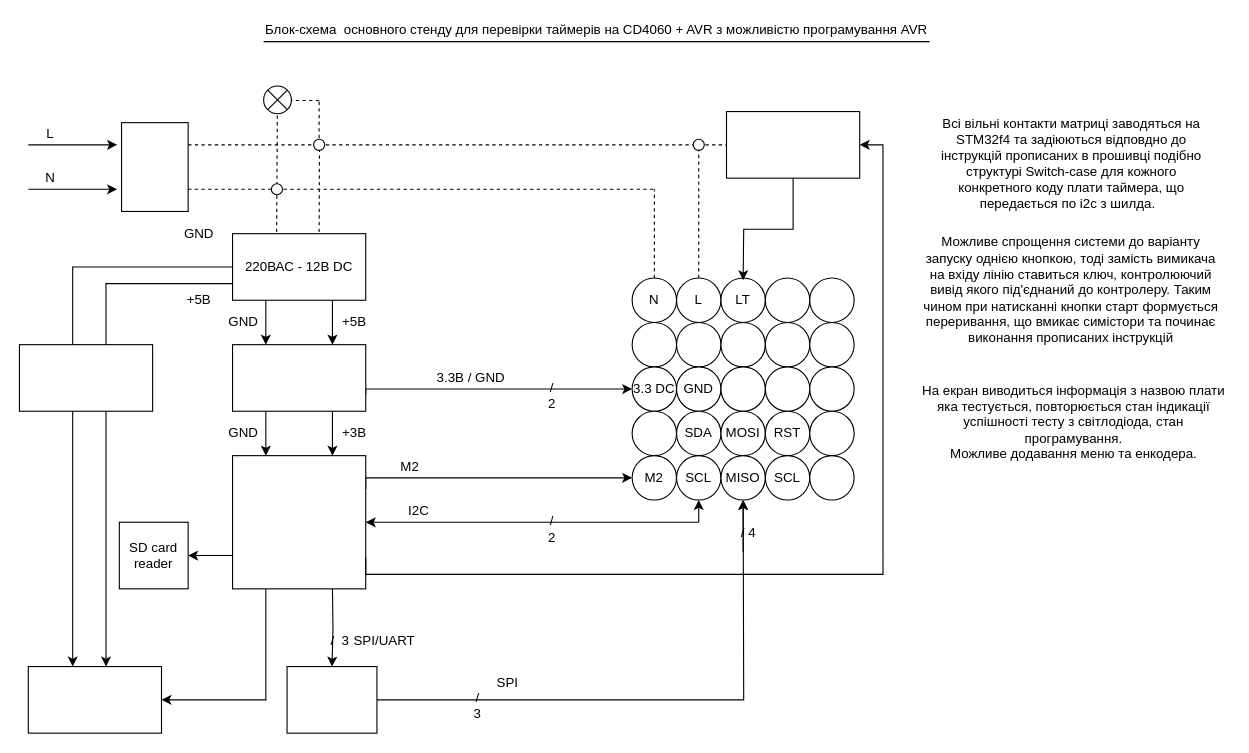
Some shapes in this 1249 by 753 pixel diagram are drawn without their labels. Each missing label, with the centre of its shape:
12B DC -> 5B DC: the point at 85,377
12В -> 3.3B: the point at 298,377
STM32F4: the point at 298,522
Вимикач: the point at 154,166
Екран: the point at 94,699
Ключ: the point at 792,144
Програматор: the point at 331,699
